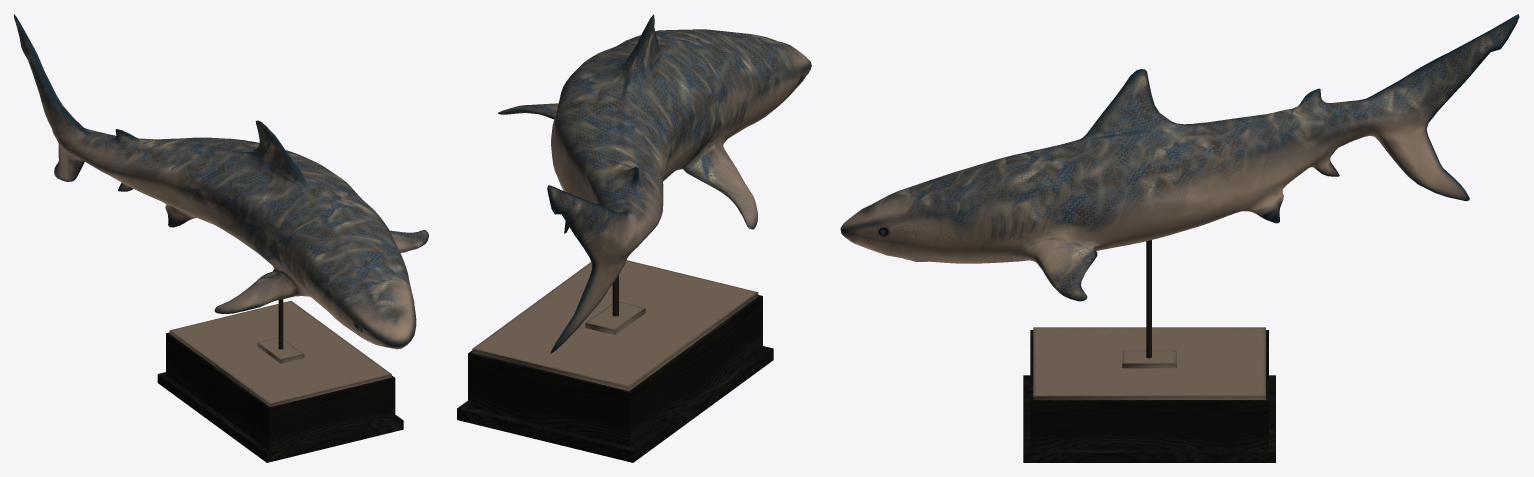
File: bronze_shark_statue.glb
3 renders of one model, left to right at view 1: azimuth 30°, elevation 25°; view 2: azimuth 150°, elevation 25°; view 3: azimuth 270°, elevation 25°, orthographic. The views are drawn at different scales.
Visible parts, largest first — view 1: bronze_shark_statue; view 2: bronze_shark_statue; view 3: bronze_shark_statue.
Part boxes in pixels (x1,y1,x2,y2): bronze_shark_statue: [14, 14, 428, 462]; bronze_shark_statue: [457, 14, 811, 462]; bronze_shark_statue: [840, 14, 1519, 462].
Bounding box in the file's own units: 0.3519 × 0.4316 × 0.7598.
1 material, 1 textured.
